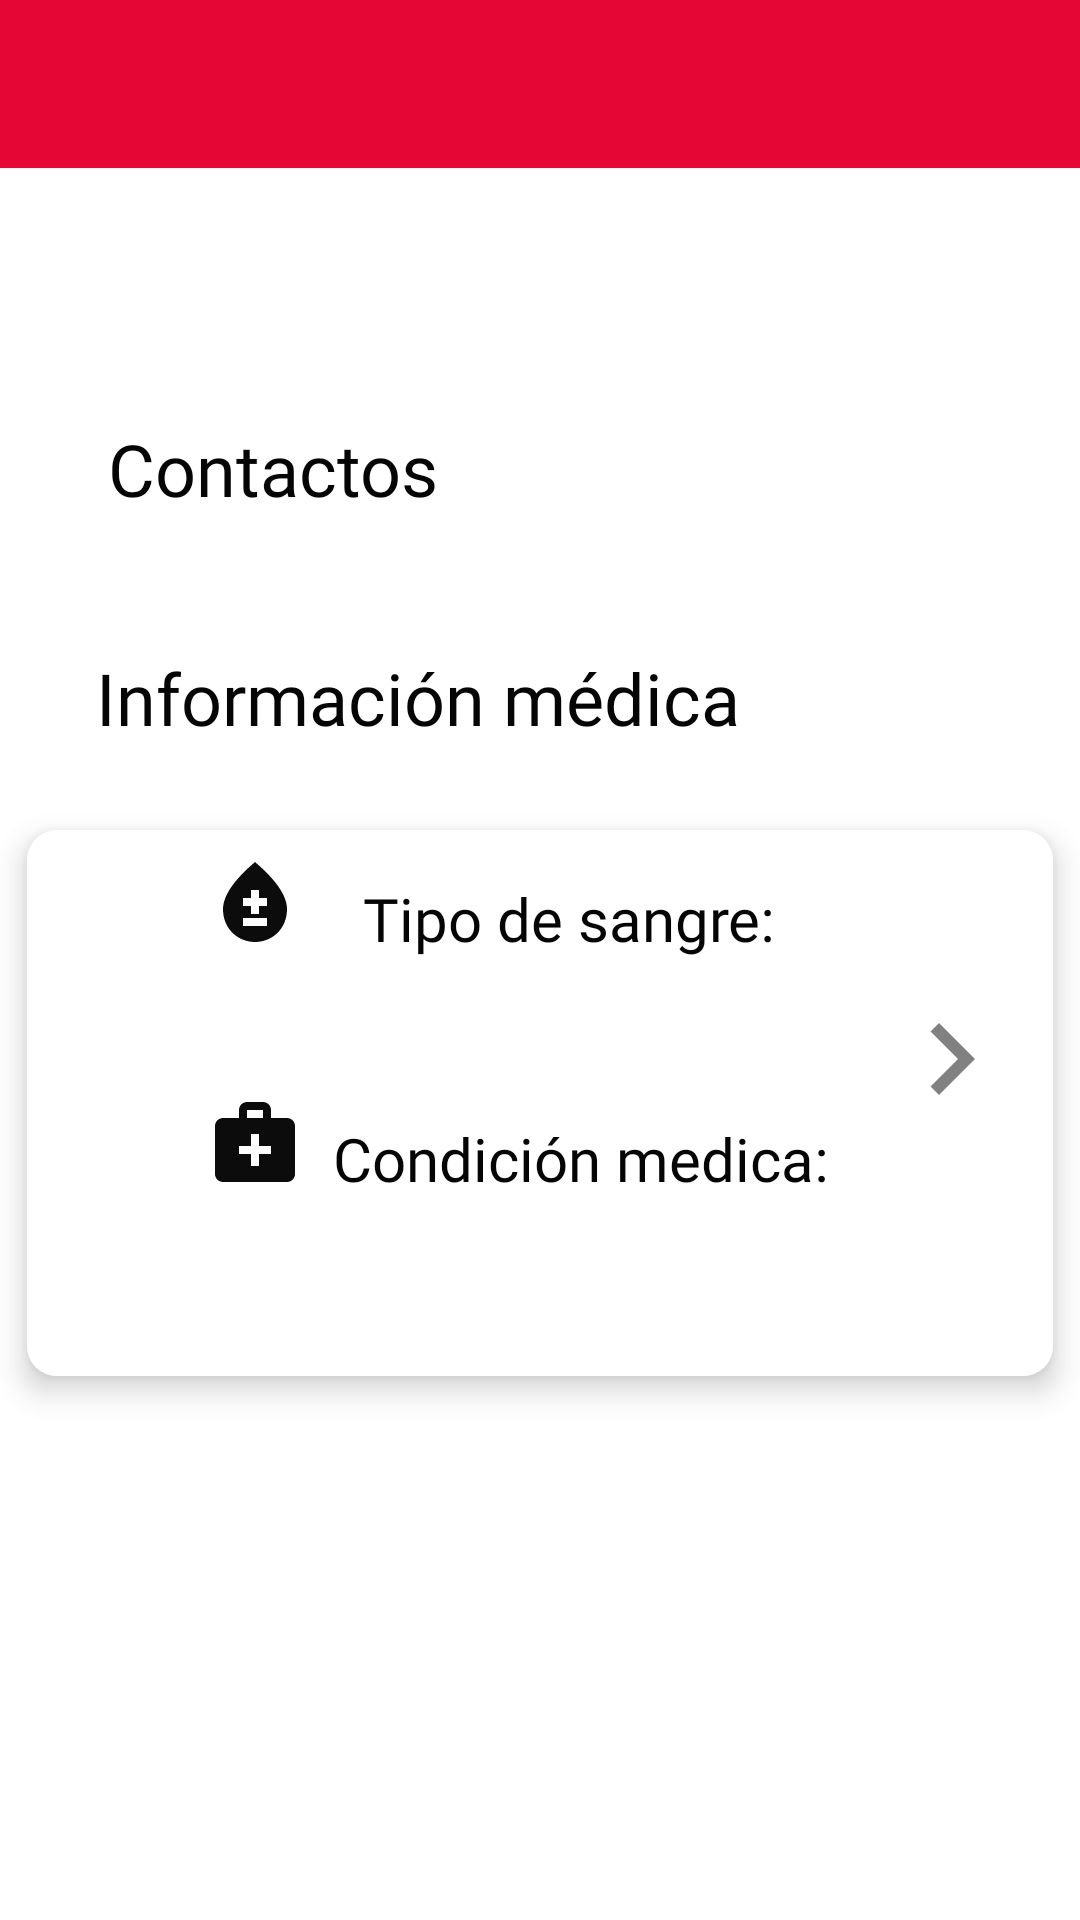

Locate icon controls on the screen. Image size 1080×1920, boxes as (x1, y1, x2, y2).
bloodtype: (223, 862, 287, 942)
medical services: (215, 1102, 295, 1182)
navigate next: (930, 1023, 975, 1095)
